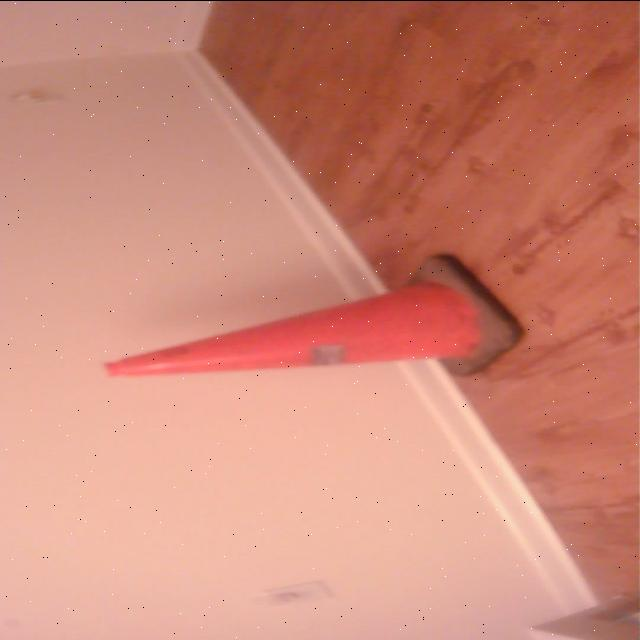traffic cone: (97, 250, 534, 381)
